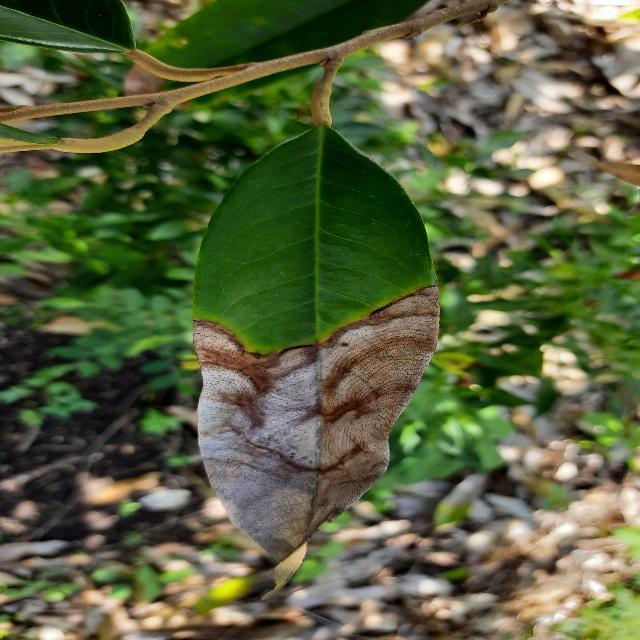Leaf Blight: (185, 107, 449, 607)
